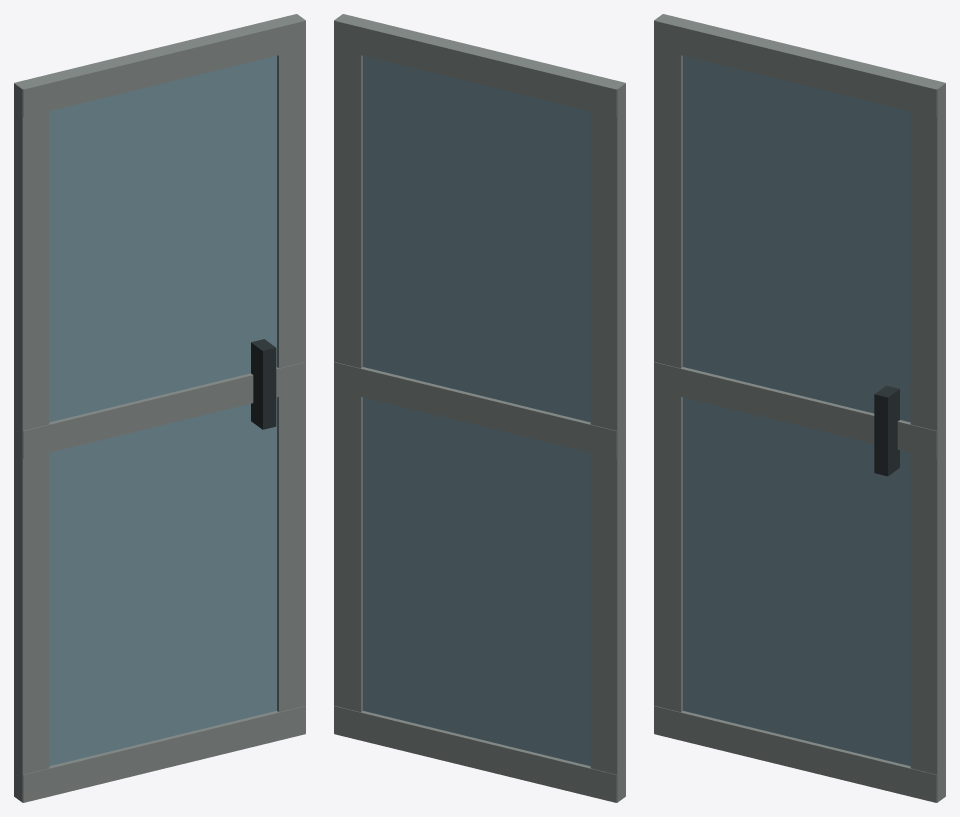
File: shop_glass_door.glb
3 renders of one model, left to right at view 1: azimuth 30°, elevation 25°; view 2: azimuth 150°, elevation 25°; view 3: azimuth 330°, elevation 25°, orthographic.
Parts seen in each view (by area): view 1: Glazing, Stile, Stile.001, Door rail.002, Door rail, Door rail.001, Pull; view 2: Glazing, Stile, Stile.001, Door rail.002, Door rail, Door rail.001; view 3: Glazing, Stile.001, Stile, Door rail.002, Door rail, Door rail.001, Pull.
Boxes of the visible parts, bbox=[...] form: Glazing: bbox=[49, 56, 276, 766]; Stile: bbox=[14, 76, 49, 802]; Stile.001: bbox=[271, 14, 305, 733]; Door rail.002: bbox=[14, 14, 305, 117]; Door rail: bbox=[23, 706, 305, 802]; Door rail.001: bbox=[23, 362, 305, 458]; Pull: bbox=[251, 339, 276, 429]; Glazing: bbox=[363, 56, 590, 766]; Stile: bbox=[590, 76, 625, 802]; Stile.001: bbox=[334, 14, 368, 733]; Door rail.002: bbox=[334, 14, 625, 117]; Door rail: bbox=[334, 706, 616, 802]; Door rail.001: bbox=[334, 362, 616, 458]; Glazing: bbox=[683, 56, 910, 766]; Stile.001: bbox=[910, 76, 945, 802]; Stile: bbox=[654, 14, 688, 733]; Door rail.002: bbox=[654, 14, 945, 117]; Door rail: bbox=[654, 706, 936, 802]; Door rail.001: bbox=[654, 362, 936, 458]; Pull: bbox=[874, 385, 899, 476].
Bounding box in the file's own units: 0.899 × 2.16 × 0.1035.
